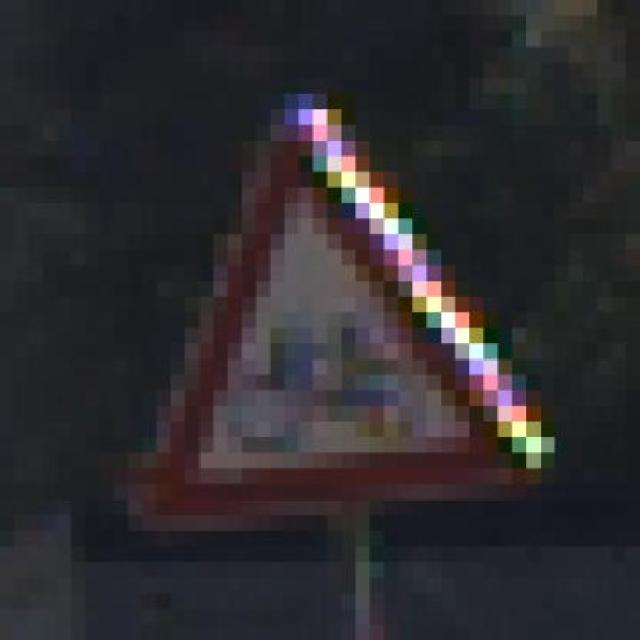CYCLE ROUTE AHEAD WARNING: (85, 94, 569, 546)
